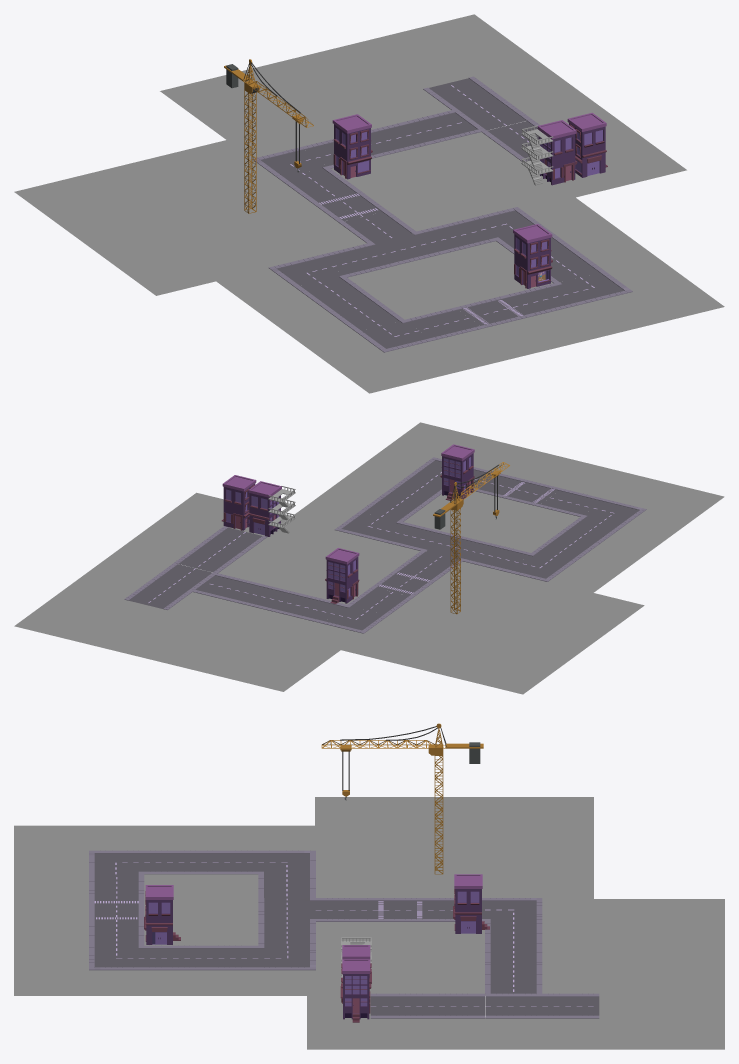
Rendered from layout.fbx.
3 renders of one model, top to bottom at view 1: azimuth 30°, elevation 25°; view 2: azimuth 150°, elevation 25°; view 3: azimuth 270°, elevation 25°, orthographic. The views are drawn at different scales.
Parts seen in each view (by area): view 1: pPlane17, pPlane18, pPlane21, pully1, pCube3, window_side (×2), Road_Straight5, Road_Straight4, Road_Straight13, Road_Straight14, Road_Straight17, Road_Straight10 (+20 smaller); view 2: pPlane17, pPlane18, pPlane21, pully1, pCube3, window_side (×2), Road_Straight5, Road_Straight13, Road_Straight12, Road_Straight4, turn2, Road_Straight14 (+22 smaller); view 3: pPlane17, pPlane18, pPlane21, pully1, pCube3, Road_Straight14, Road_Straight16, Road_Straight17, Road_Straight6, Road_Straight8, Road_Straight15, turn2 (+20 smaller).
Part boxes in pixels (x1,y1,x2,y2): pPlane17: [14, 14, 686, 295]; pPlane18: [216, 132, 724, 393]; pPlane21: [347, 241, 552, 319]; pully1: [224, 59, 313, 213]; pCube3: [513, 224, 552, 288]; window_side (×2): [333, 124, 575, 185]; Road_Straight5: [317, 243, 396, 277]; Road_Straight4: [416, 219, 495, 253]; Road_Straight13: [402, 110, 481, 144]; Road_Straight14: [423, 76, 502, 109]; Road_Straight17: [452, 98, 531, 131]; Road_Straight10: [405, 307, 483, 340]; pPlane17: [14, 492, 644, 694]; pPlane18: [218, 422, 724, 604]; pPlane21: [404, 491, 579, 552]; pully1: [433, 462, 509, 614]; pCube3: [440, 444, 474, 500]; window_side (×2): [223, 487, 358, 603]; Road_Straight5: [463, 542, 530, 571]; Road_Straight13: [192, 573, 260, 602]; Road_Straight12: [235, 584, 303, 612]; Road_Straight4: [378, 522, 445, 550]; turn2: [334, 511, 402, 540]; Road_Straight14: [124, 581, 192, 609]; pPlane17: [307, 797, 724, 1049]; pPlane18: [14, 825, 485, 995]; pPlane21: [144, 874, 258, 945]; pully1: [321, 723, 483, 874]; pCube3: [144, 885, 180, 944]; Road_Straight14: [542, 993, 599, 1018]; Road_Straight16: [370, 993, 427, 1018]; Road_Straight17: [485, 993, 542, 1018]; Road_Straight6: [201, 945, 258, 970]; Road_Straight8: [144, 945, 201, 970]; Road_Straight15: [428, 993, 484, 1018]; turn2: [258, 945, 315, 970].
Size of the model in its own units: 97.35 by 27.04 by 116.
